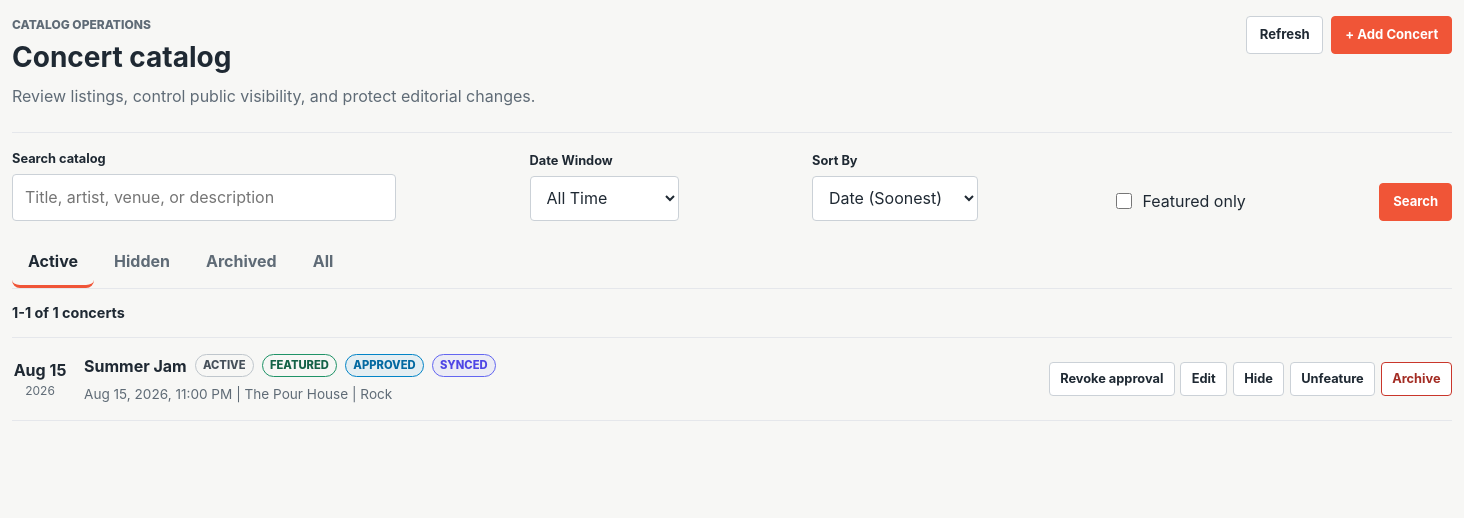
Scenario: AdminConcertsPage › clears the approval badge after revoking publication
This screenshot has width=1464, height=518.
Step 1. Click the button "Revoke approval" → click(1112, 379), box [1049,362,1175,396]
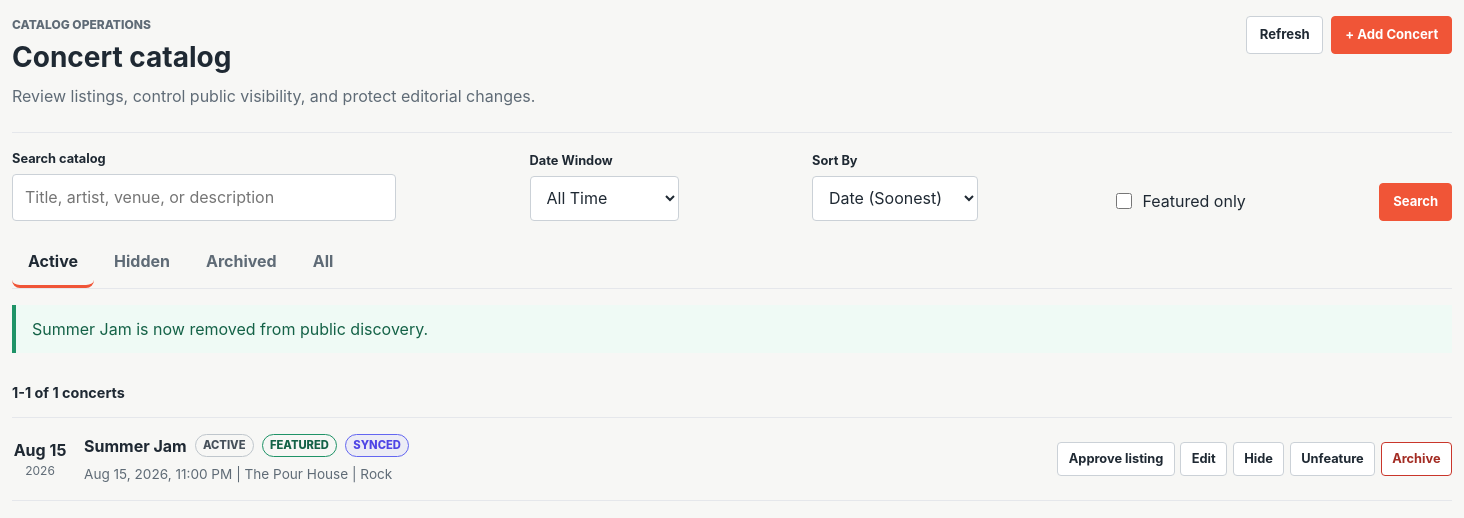
Check: the text "removed from public discovery" is shown, box [32,318,428,338]
Check: the text "Approve listing" is shown, box [1057,442,1175,476]
